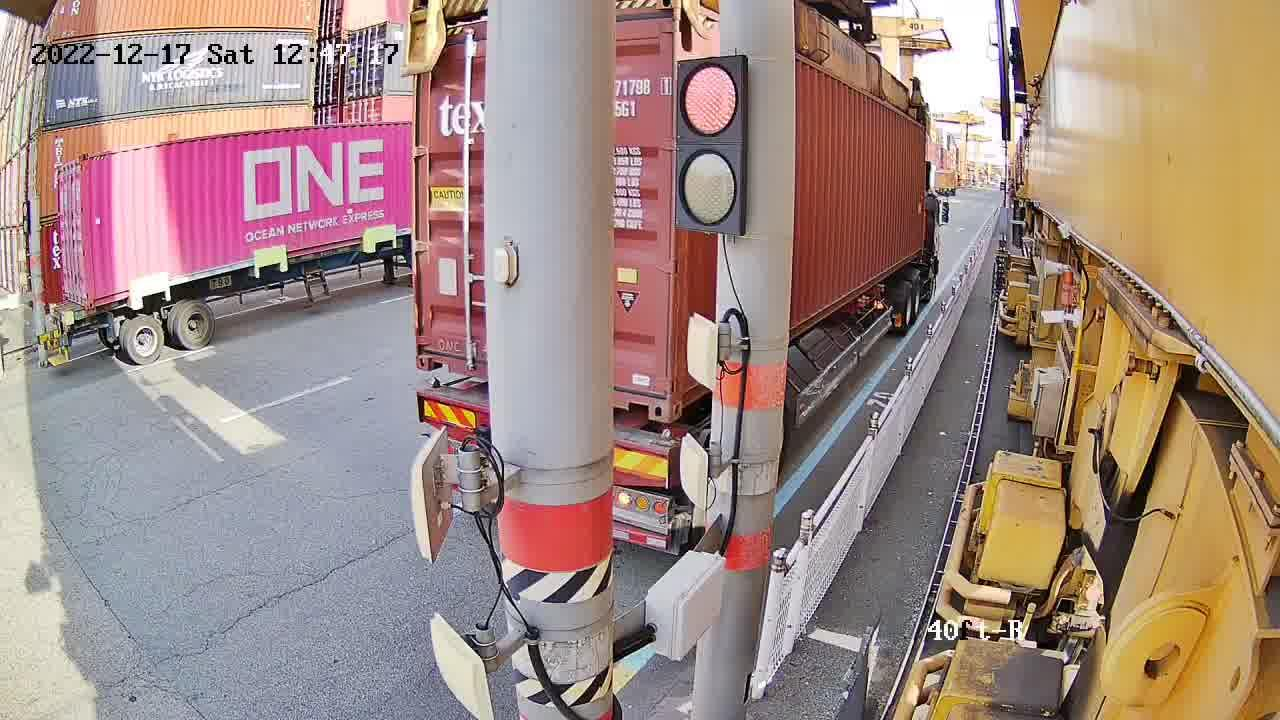Cone: (651, 427, 676, 454), (420, 376, 444, 394)
Hole_L: (668, 371, 699, 419), (414, 337, 445, 372)
Hole_R: (628, 371, 670, 419)
